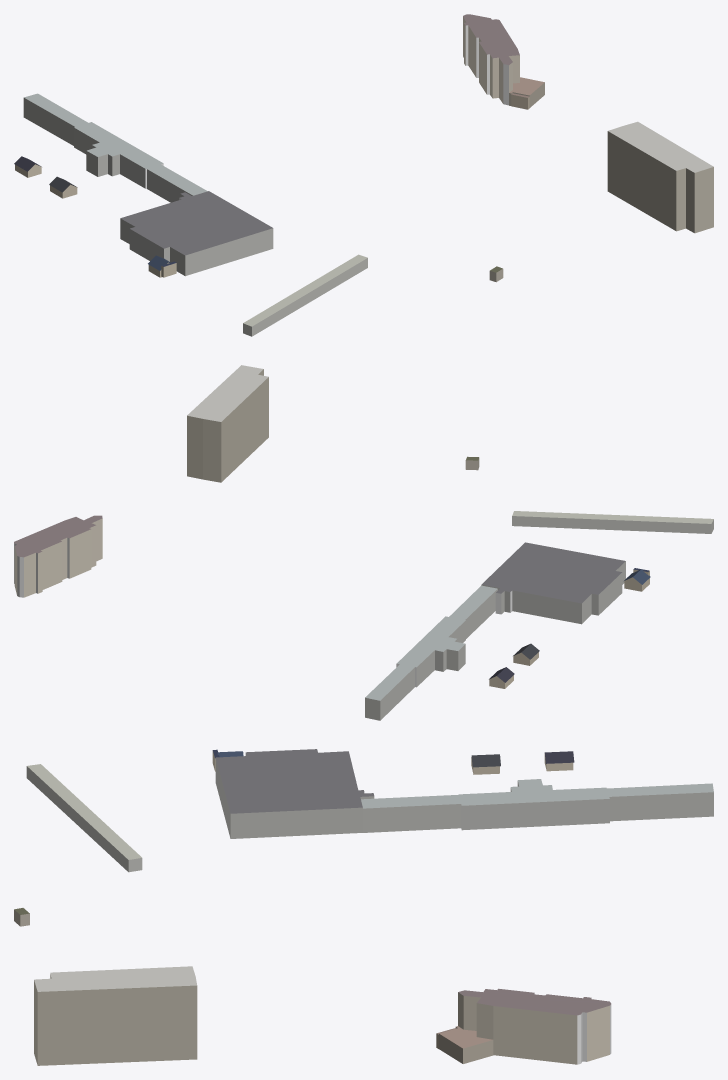
3 views of the same model, one above another, from view 1: azimuth 30°, elevation 25°; view 2: azimuth 150°, elevation 25°; view 3: azimuth 270°, elevation 25° (orthographic). The views are drawn at different scales.
Parts seen in each view (by area): view 1: tuile; view 2: tuile; view 3: tuile.
Boxes of the visible parts, x1,y1,x2,y2 form: tuile: (14, 14, 713, 336); tuile: (14, 365, 713, 720); tuile: (14, 749, 713, 1065).
Bounding box in the file's own units: 259 × 30.64 × 263.
